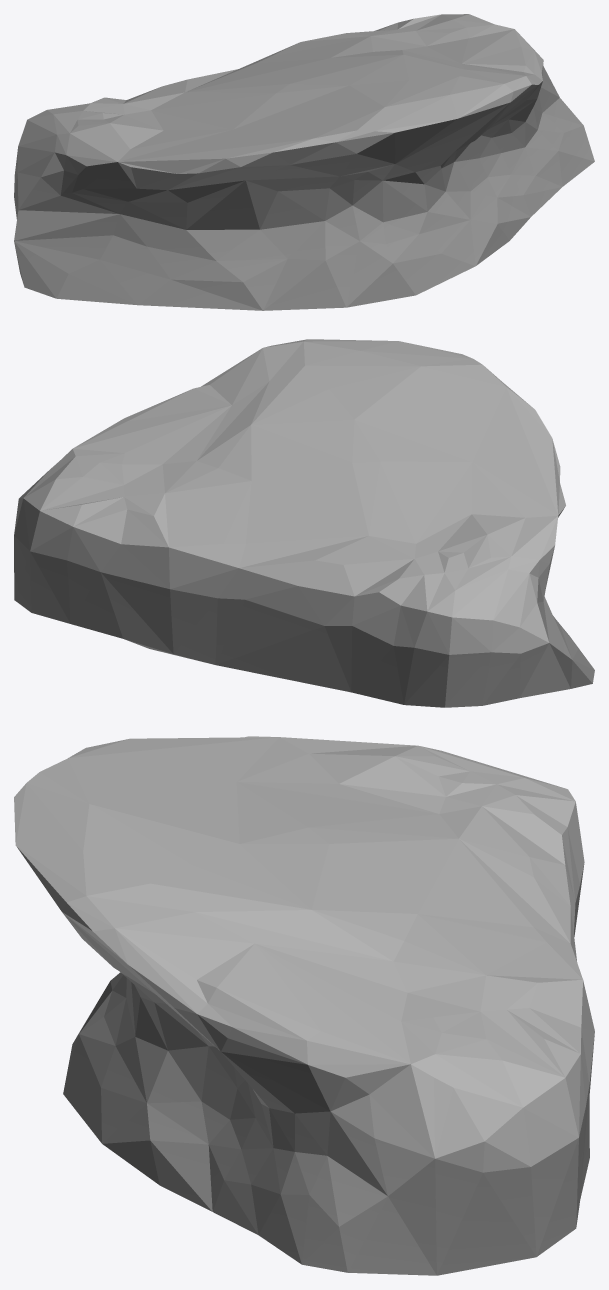
Rendered from SM_Gen_Env_Ground_River_Dirt_03.glb.
3 views of the same model, one above another, from view 1: azimuth 30°, elevation 25°; view 2: azimuth 150°, elevation 25°; view 3: azimuth 270°, elevation 25° (orthographic). The views are drawn at different scales.
Parts seen in each view (by area): view 1: SM_Gen_Env_Ground_River_Dirt_03; view 2: SM_Gen_Env_Ground_River_Dirt_03; view 3: SM_Gen_Env_Ground_River_Dirt_03.
Boxes of the visible parts, x1,y1,x2,y2 form: SM_Gen_Env_Ground_River_Dirt_03: (14,14,594,310); SM_Gen_Env_Ground_River_Dirt_03: (14,339,594,707); SM_Gen_Env_Ground_River_Dirt_03: (14,736,594,1275).
Bounding box in the file's own units: 11.24 × 3.64 × 6.97.
Materials: 1 (1 with a texture image).
